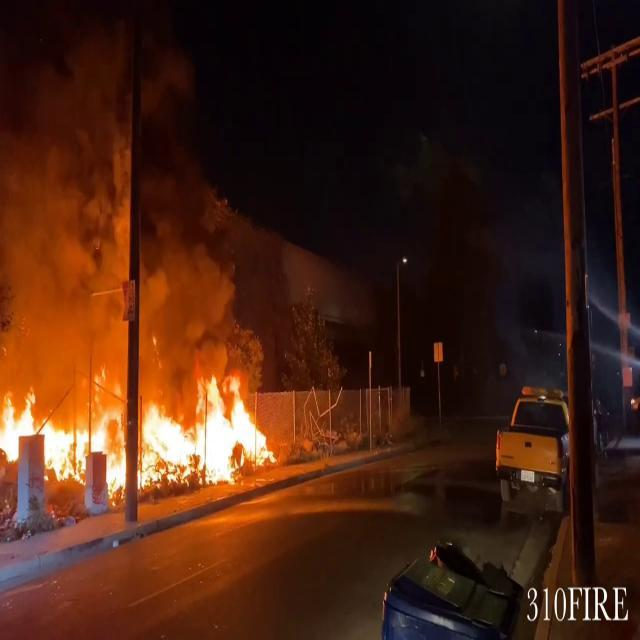Fire: (0, 365, 278, 490)
Smoke: (0, 8, 221, 366)
